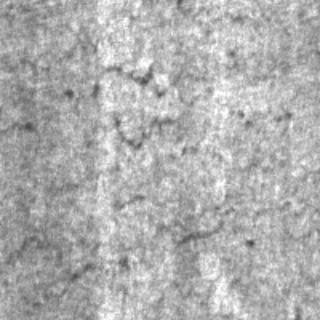crazing: (58, 48, 288, 158), (0, 210, 146, 310)
